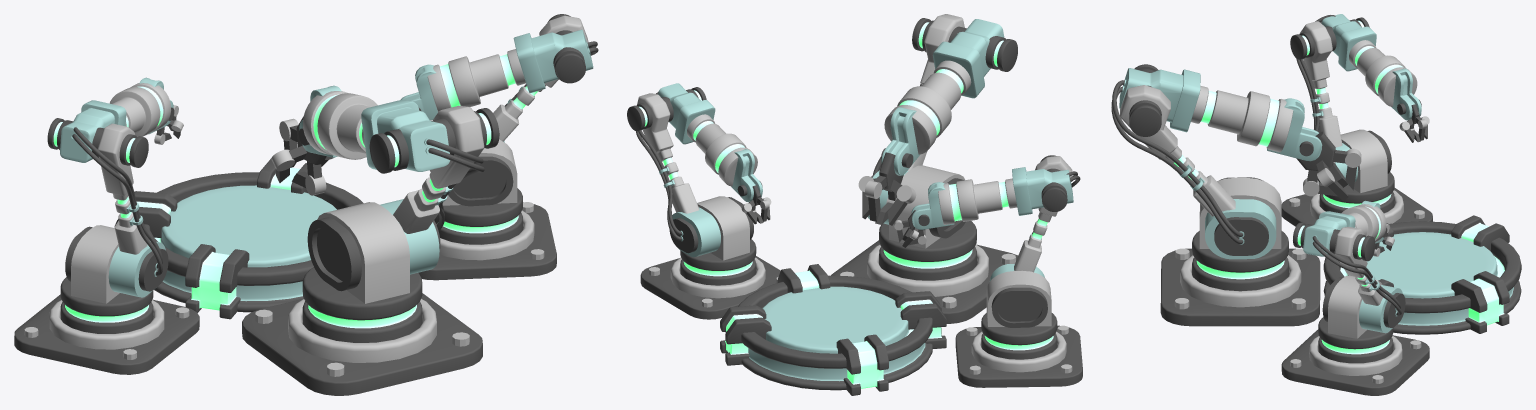
The model's file is Assemblage.fbx.
3 renders of one model, left to right at view 1: azimuth 30°, elevation 25°; view 2: azimuth 150°, elevation 25°; view 3: azimuth 270°, elevation 25°, orthographic. The views are drawn at different scales.
Visible parts, largest first — view 1: Cube.033, Cube.030, Cube.031, Cube.026, Cube.035, Cube.034, Cube.027, Cube.032; view 2: Cube.033, Cube.030, Cube.034, Cube.026, Cube.027, Cube.031, Cube.035, Cube.032, Cube.028, Cube.036; view 3: Cube.033, Cube.030, Cube.031, Cube.034, Cube.035, Cube.027, Cube.032, Cube.026, Cube.036.
Part boxes in pixels (x1,y1,x2,y2): Cube.033: (14, 139, 556, 395); Cube.030: (298, 85, 450, 171); Cube.031: (369, 105, 499, 233); Cube.026: (400, 29, 593, 120); Cube.035: (47, 118, 162, 276); Cube.034: (60, 77, 174, 162); Cube.027: (493, 14, 598, 141); Cube.032: (271, 116, 334, 195); Cube.033: (640, 165, 1082, 395); Cube.030: (881, 19, 1004, 175); Cube.034: (911, 167, 1073, 229); Cube.026: (658, 83, 762, 202); Cube.027: (627, 87, 706, 241); Cube.031: (873, 14, 1017, 174); Cube.035: (1014, 155, 1080, 272); Cube.032: (858, 152, 916, 225); Cube.028: (741, 185, 771, 224); Cube.036: (894, 210, 926, 247); Cube.033: (1160, 129, 1521, 395); Cube.030: (1119, 68, 1322, 161); Cube.031: (1111, 64, 1244, 244); Cube.034: (1321, 14, 1421, 120); Cube.035: (1290, 15, 1369, 147); Cube.027: (1293, 222, 1401, 316); Cube.032: (1296, 131, 1361, 200); Cube.026: (1303, 200, 1387, 256); Cube.036: (1399, 104, 1429, 142).
Size of the model in its own units: 182 by 84.61 by 144.
